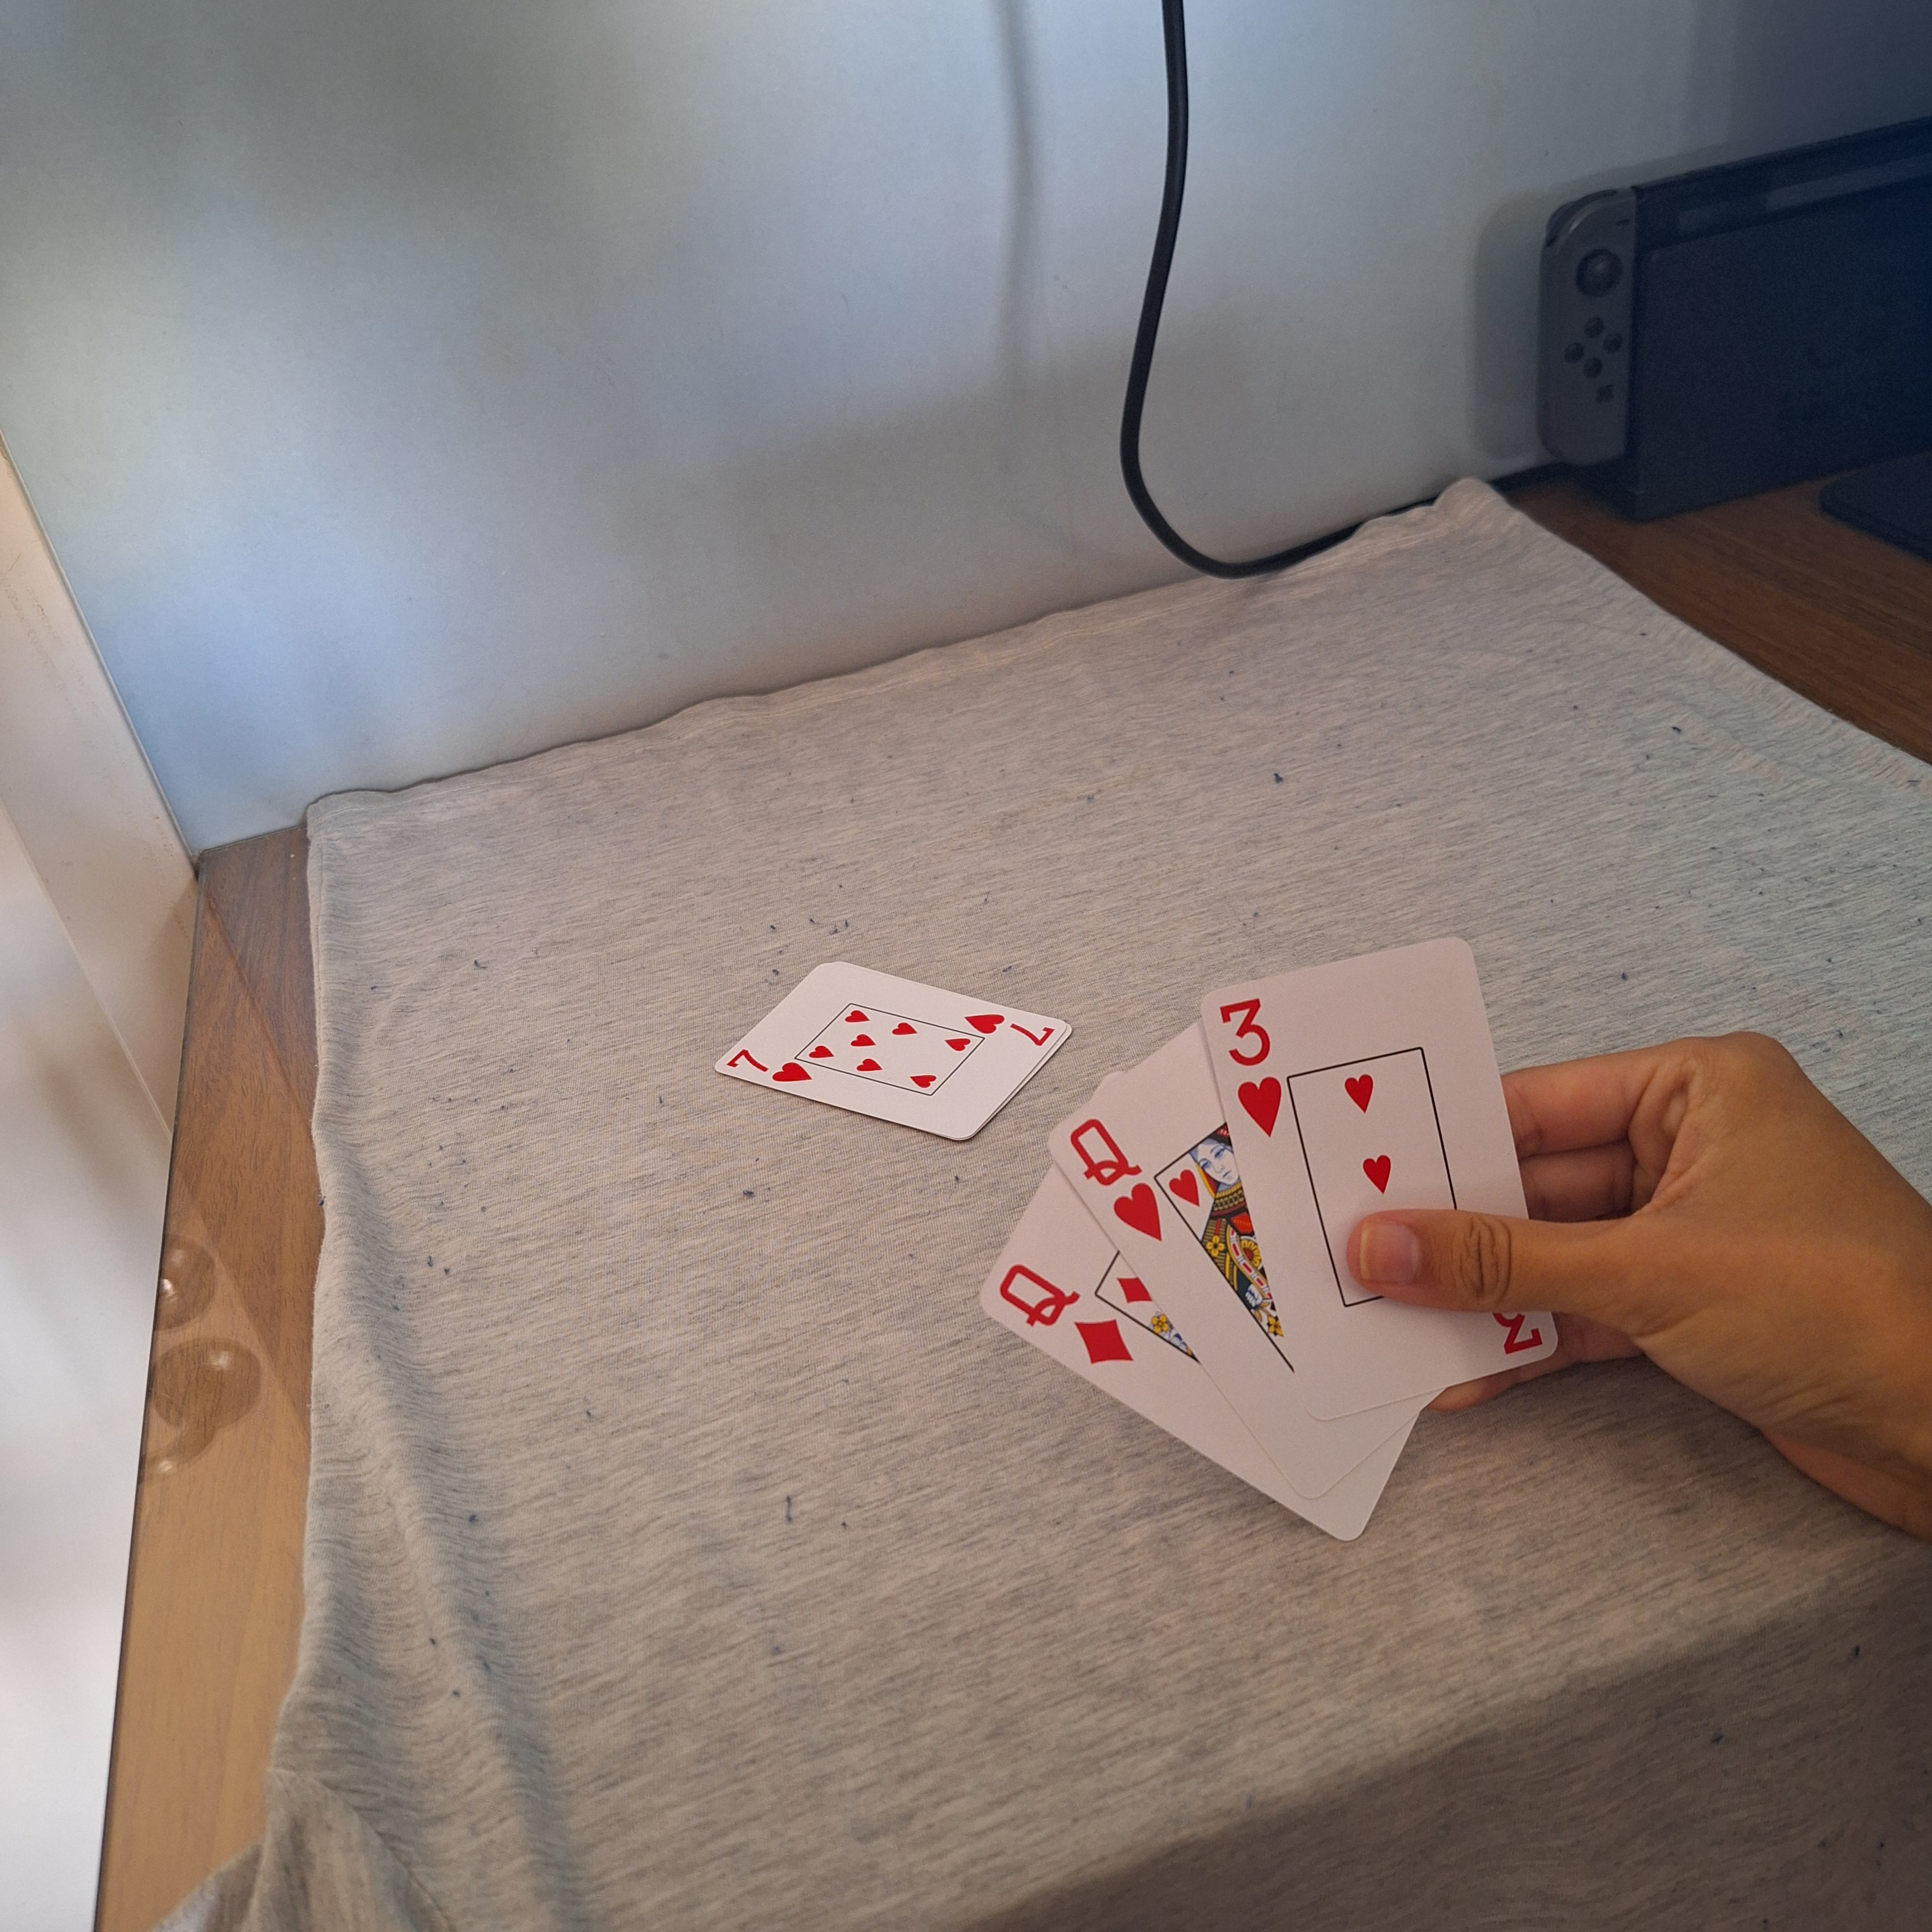3C: (1217, 994, 1288, 1139)
7C: (722, 1046, 816, 1093), (961, 1008, 1062, 1051)
QC: (1067, 1116, 1166, 1246)
QO: (998, 1261, 1136, 1368)
